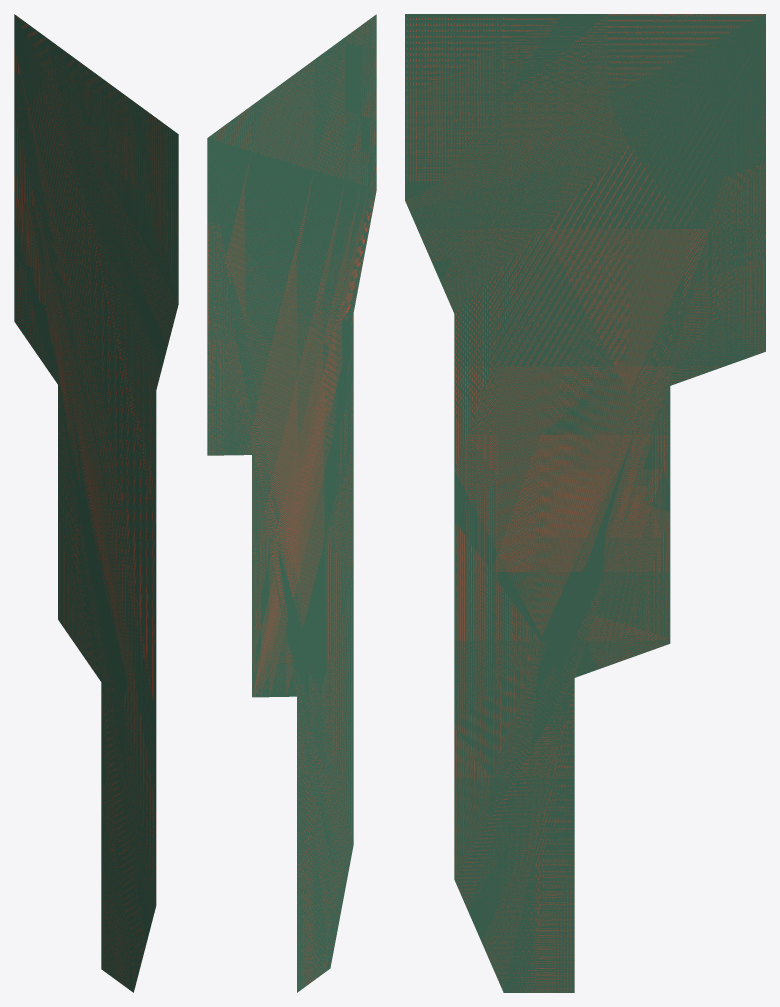
Rendered from naturePack_flat_007.fbx.
The picture shows the model from 3 angles, left to right: view 1: azimuth 30°, elevation 25°; view 2: azimuth 150°, elevation 25°; view 3: azimuth 270°, elevation 25°; orthographic projection. The views are drawn at different scales.
Parts seen in each view (by area): view 1: Mesh1_Hanging_Moss Model; view 2: Mesh1_Hanging_Moss Model; view 3: Mesh1_Hanging_Moss Model.
Part boxes in pixels (left/top/right/bottom): Mesh1_Hanging_Moss Model: left=14, top=14, right=178, bottom=992; Mesh1_Hanging_Moss Model: left=207, top=14, right=376, bottom=992; Mesh1_Hanging_Moss Model: left=405, top=14, right=765, bottom=992.
Size of the model in its own units: 0 by 1.37 by 0.4567.
